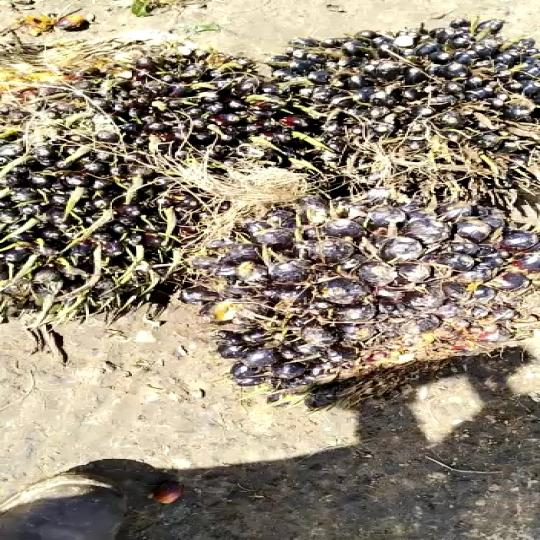mentah: (90, 43, 540, 180), (205, 190, 523, 382), (0, 122, 219, 317)
